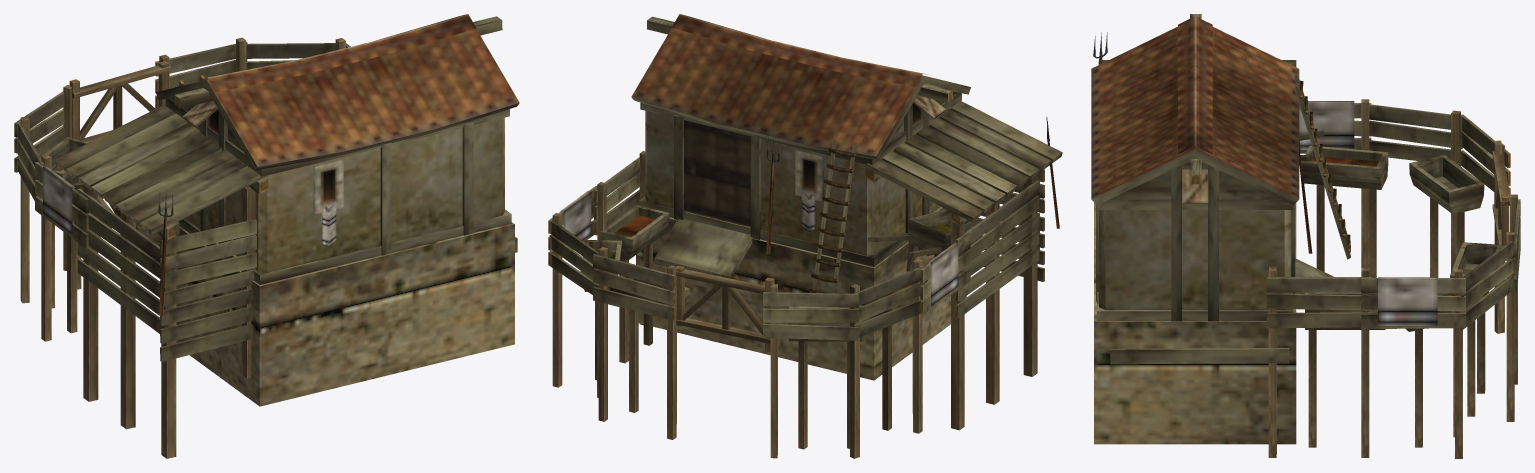
File: spart_corral.glb
The picture shows the model from 3 angles, left to right: view 1: azimuth 30°, elevation 25°; view 2: azimuth 150°, elevation 25°; view 3: azimuth 270°, elevation 25°; orthographic projection. The views are drawn at different scales.
Parts seen in each view (by area): view 1: spart_corral_part0; view 2: spart_corral_part0; view 3: spart_corral_part0.
Part boxes in pixels (x1=…): spart_corral_part0: x1=14, y1=14, x2=519, y2=458; spart_corral_part0: x1=548, y1=14, x2=1062, y2=458; spart_corral_part0: x1=1091, y1=14, x2=1520, y2=458.
Bounding box in the file's own units: 3.6 × 2.88 × 3.31.
Materials: 1 (1 with a texture image).
